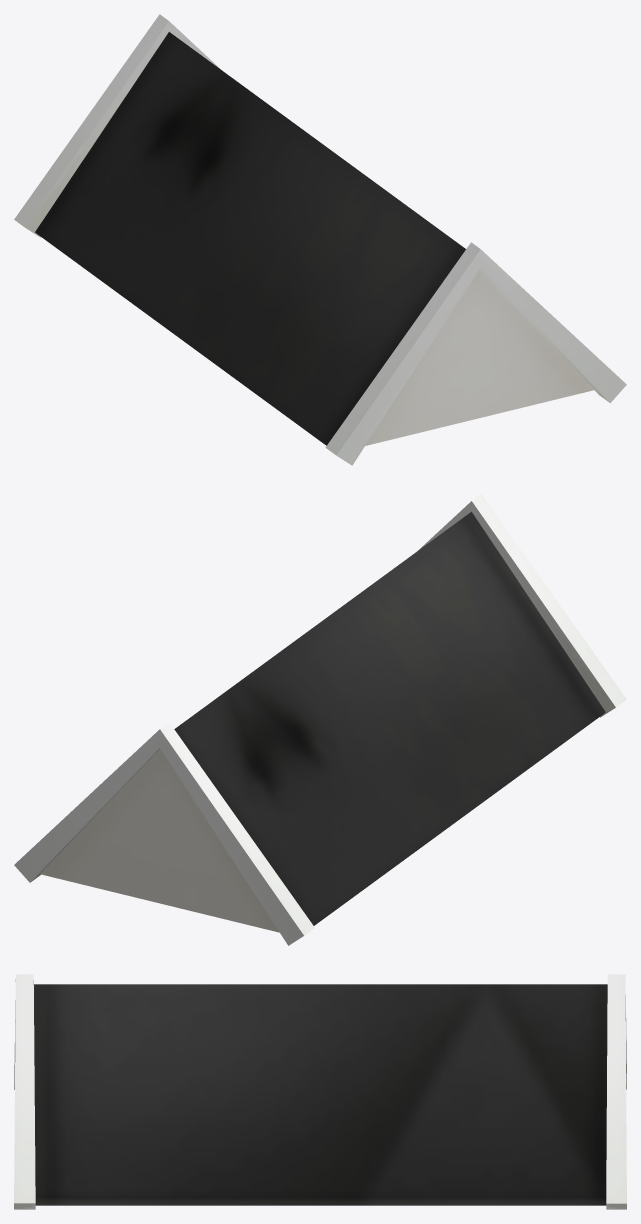
Rendered from B11Broke04.FBX.
The picture shows the model from 3 angles, top to bottom: view 1: azimuth 30°, elevation 25°; view 2: azimuth 150°, elevation 25°; view 3: azimuth 270°, elevation 25°; orthographic projection. The views are drawn at different scales.
Visible parts, largest first — view 1: B11Broke04; view 2: B11Broke04; view 3: B11Broke04.
Boxes of the visible parts, <box> form: B11Broke04: <box>14,14,626,465</box>; B11Broke04: <box>14,494,626,945</box>; B11Broke04: <box>14,974,626,1209</box>.
Bounding box in the file's own units: 39.31 × 23.93 × 75.66.
